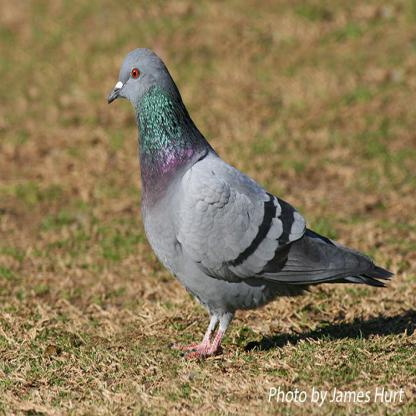Rock Pigeon: (110, 42, 398, 324)
